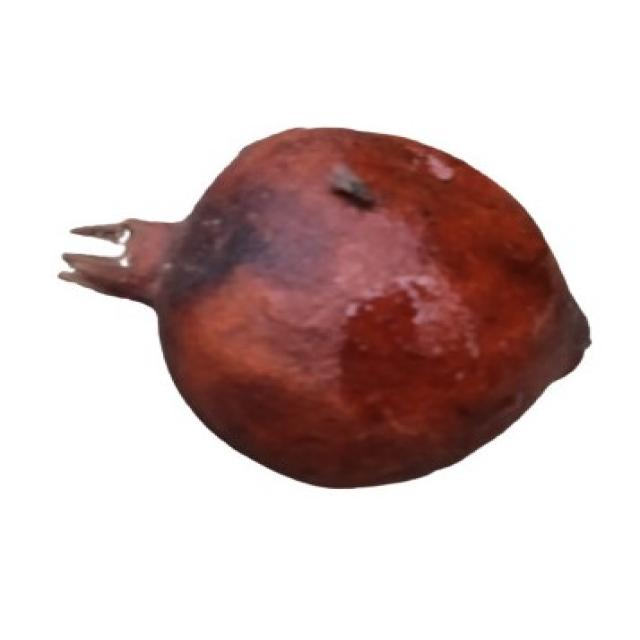Rotten: (64, 124, 592, 492)
